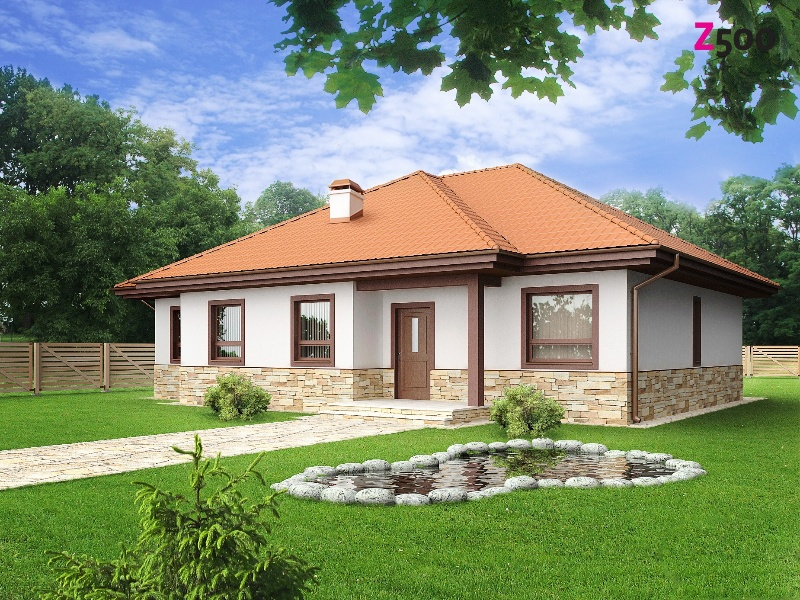window: (522, 281, 599, 369), (293, 296, 335, 369), (206, 298, 246, 367)
